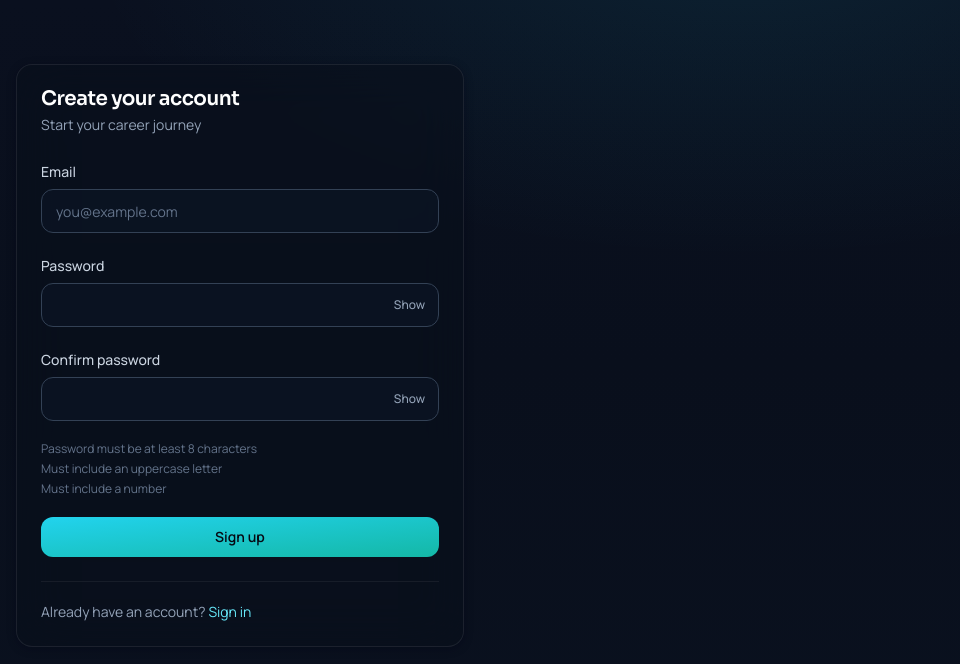
Test case: SignupPage flow › shows the verification card when signup needs email confirmation
In the field labelled "Email": [240, 211] box [41,189,439,233], type "user@example.com"
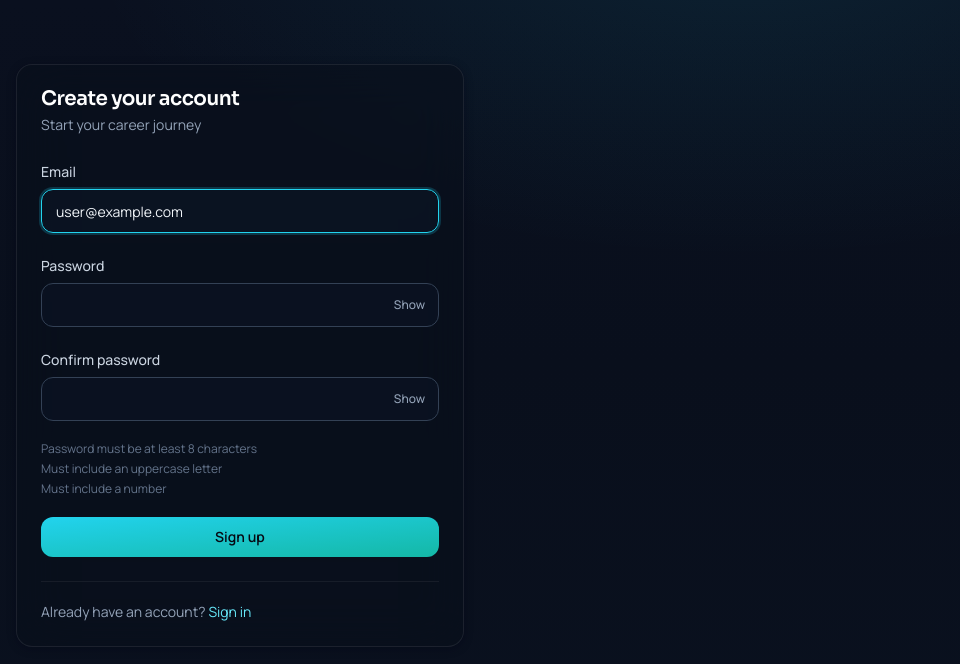
In the password field labelled "Password": [240, 305] box [41,283,439,327], type "StrongPass123"
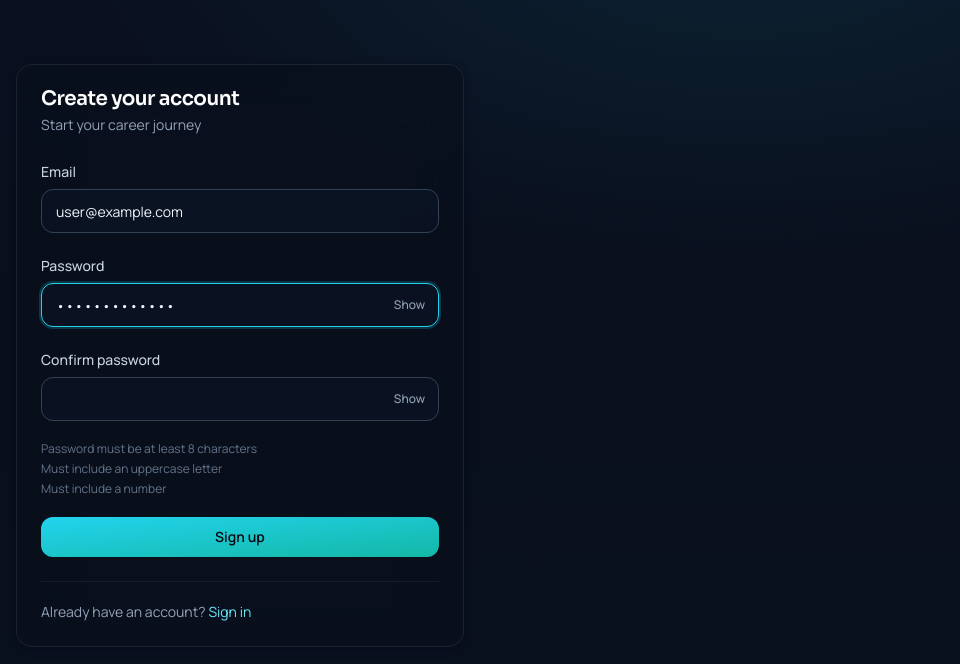
In the password field labelled "Confirm password": [240, 399] box [41,377,439,421], type "StrongPass123"
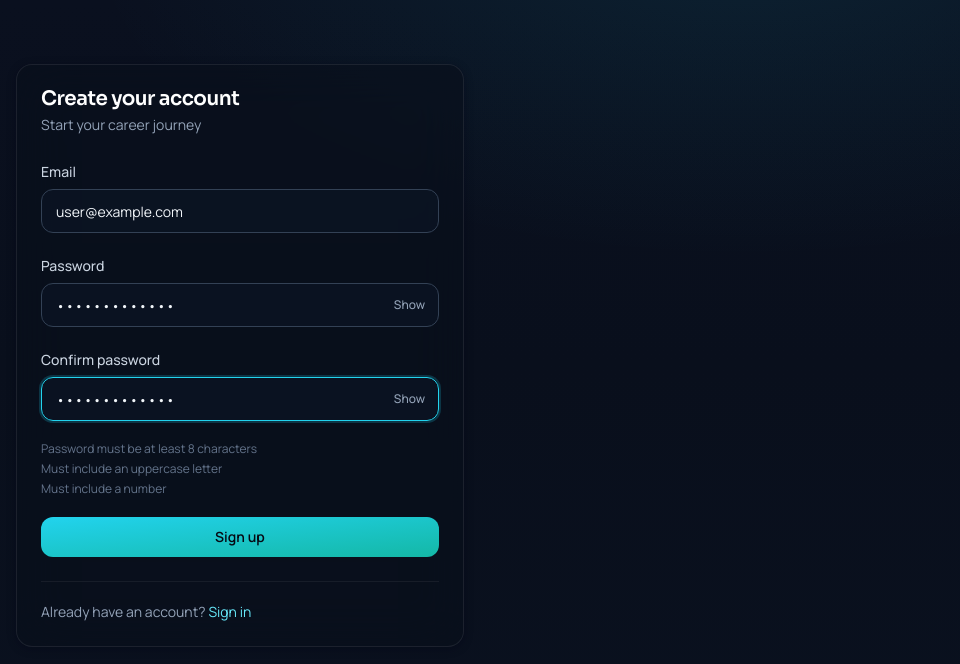
Click the button "Sign up": [240, 537] box [41,517,439,557]
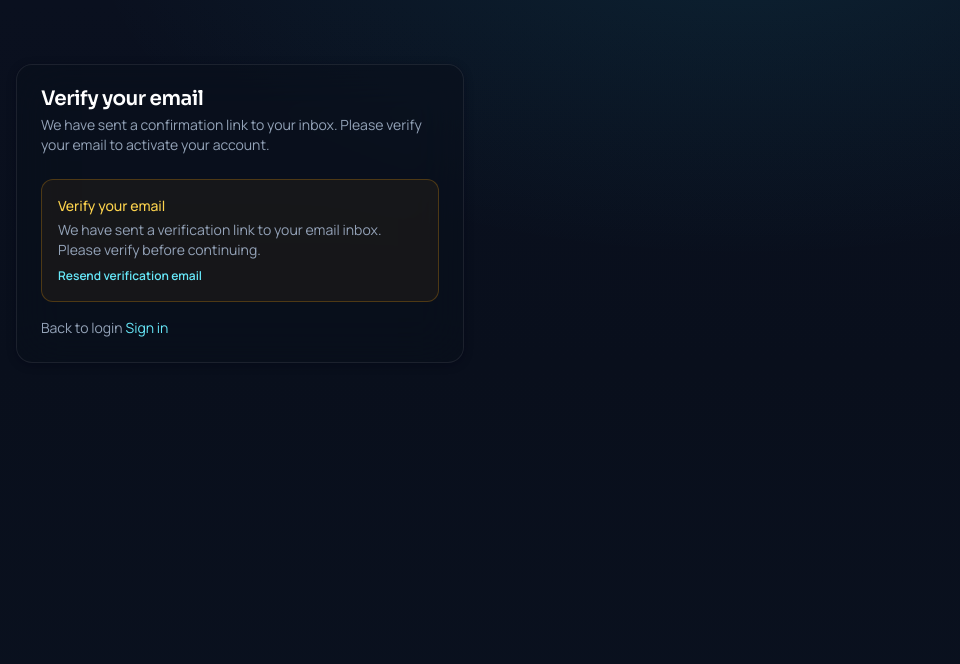
Expected: the heading "Verify your email" is shown, [41,86,203,111]
